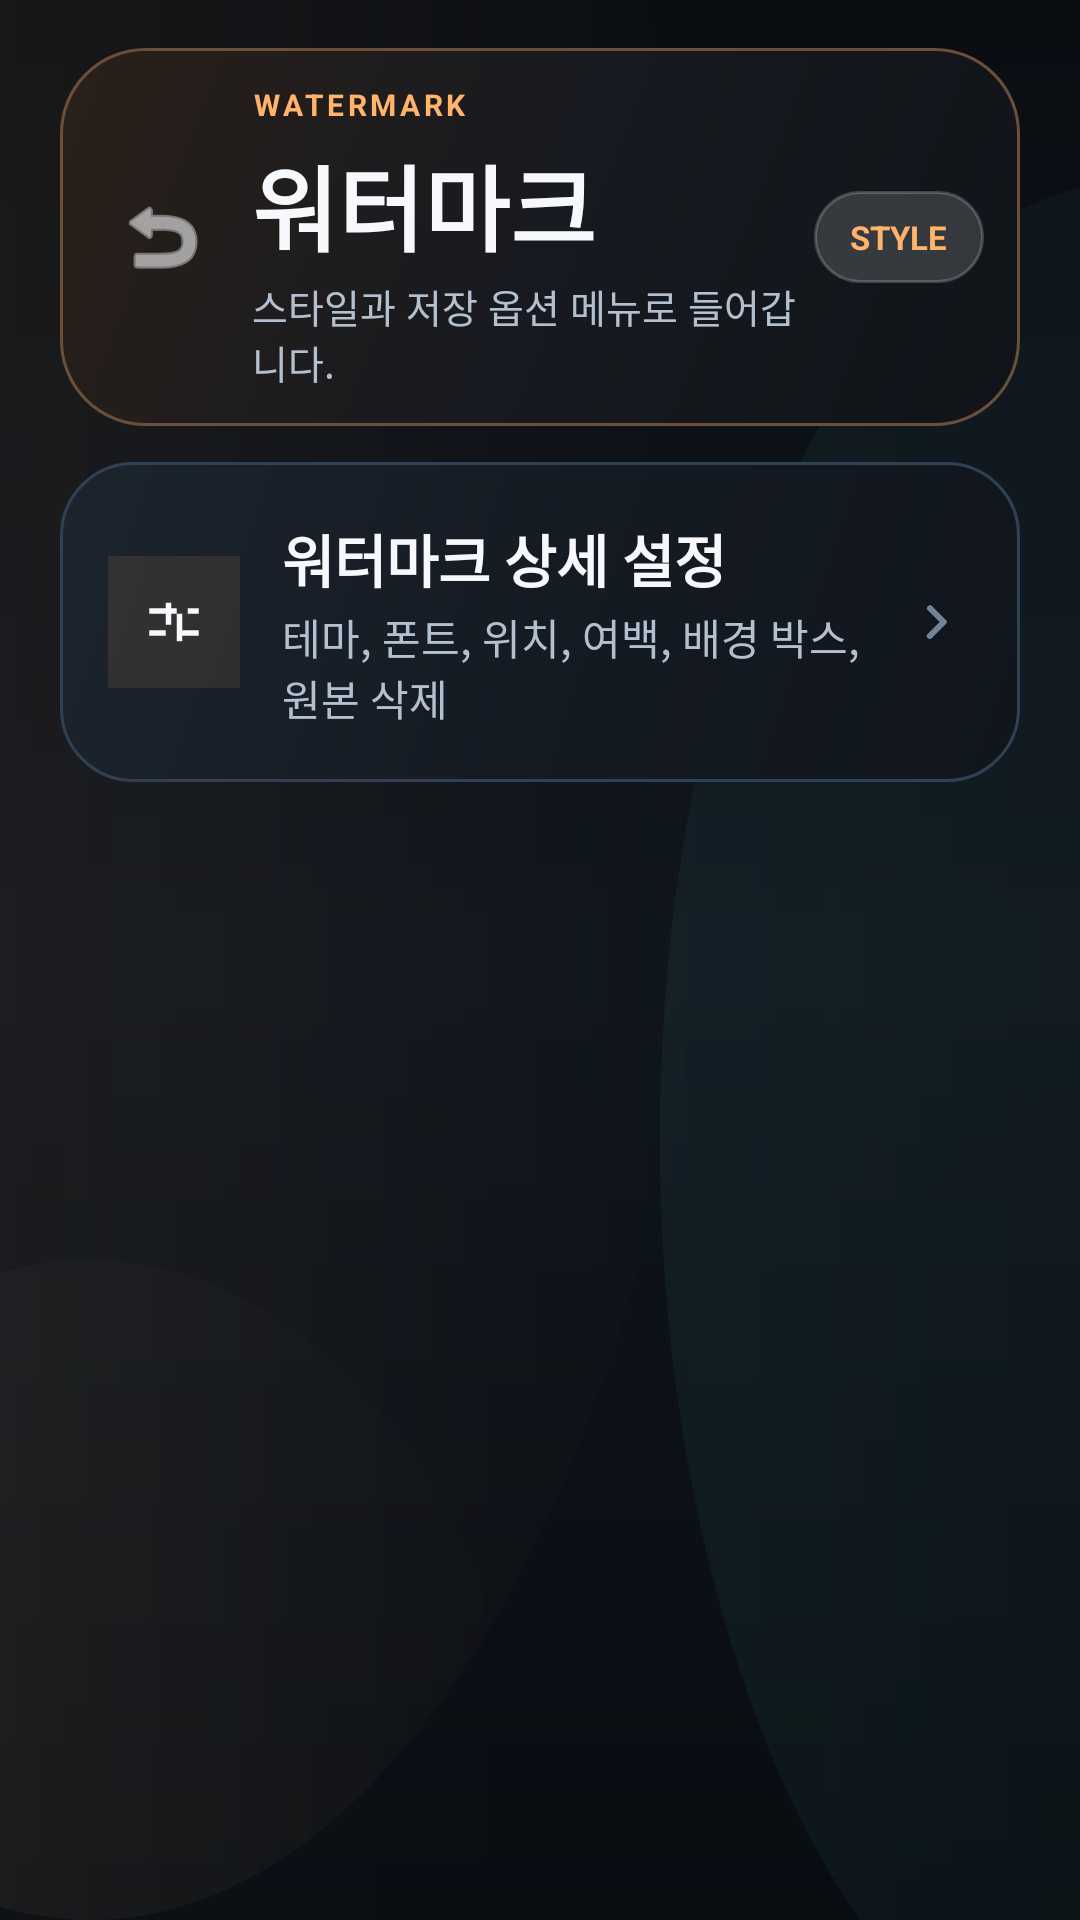

Icon bounding boxes for this 1080 × 1920 phone screenshot, format (x1, y1, x2, y2):
chevron right: (926, 605, 947, 639)
revert: (129, 206, 198, 269)
tune: (149, 602, 199, 642)
